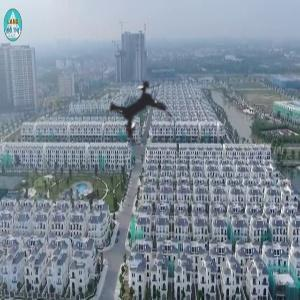drone: (80, 46, 205, 171)
